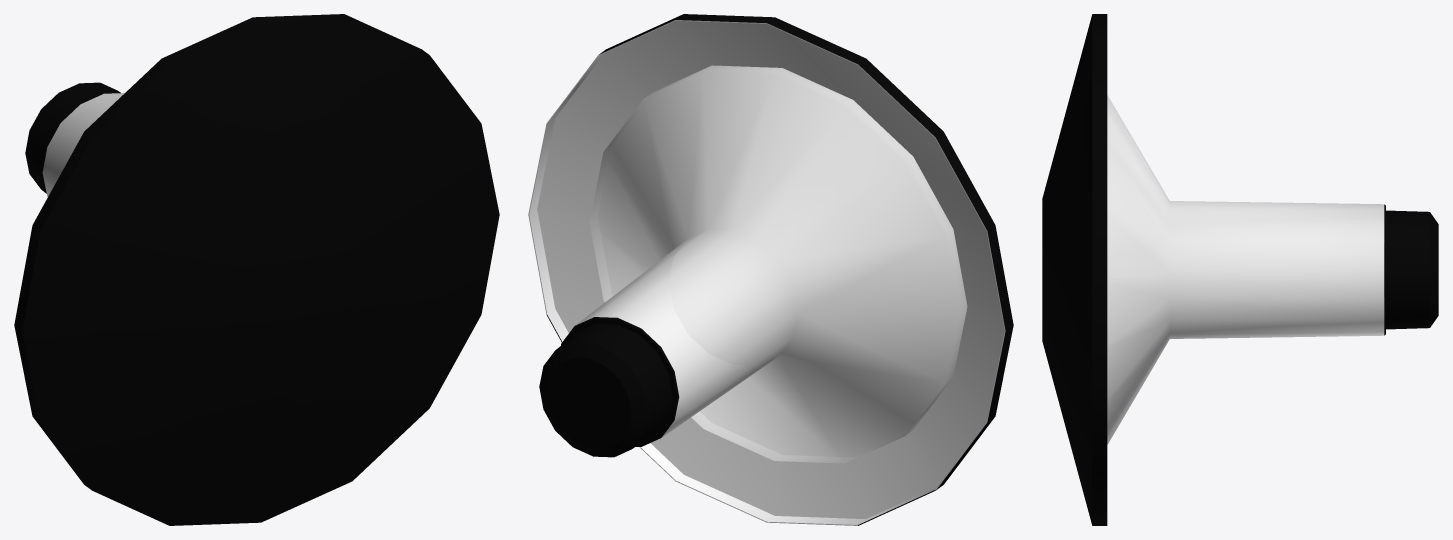
File: Laterne.obj
The picture shows the model from 3 angles, left to right: view 1: azimuth 30°, elevation 25°; view 2: azimuth 150°, elevation 25°; view 3: azimuth 270°, elevation 25°; orthographic projection. The views are drawn at different scales.
Parts seen in each view (by area): view 1: Siteco_Laterne_BezierCurve.002, Siteco_Laterne_GLas_BezierCurve.004; view 2: Siteco_Laterne_BezierCurve.002, Siteco_Laterne_GLas_BezierCurve.004; view 3: Siteco_Laterne_GLas_BezierCurve.004, Siteco_Laterne_BezierCurve.002.
Boxes of the visible parts, bbox=[...] form: Siteco_Laterne_BezierCurve.002: bbox=[14, 14, 499, 525]; Siteco_Laterne_GLas_BezierCurve.004: bbox=[42, 93, 124, 196]; Siteco_Laterne_BezierCurve.002: bbox=[528, 14, 1013, 525]; Siteco_Laterne_GLas_BezierCurve.004: bbox=[575, 65, 967, 463]; Siteco_Laterne_GLas_BezierCurve.004: bbox=[1107, 95, 1384, 444]; Siteco_Laterne_BezierCurve.002: bbox=[1042, 14, 1438, 525].
Size of the model in its own units: 0.7507 by 0.7507 by 0.5803.
Materials: 3 (2 with a texture image).
